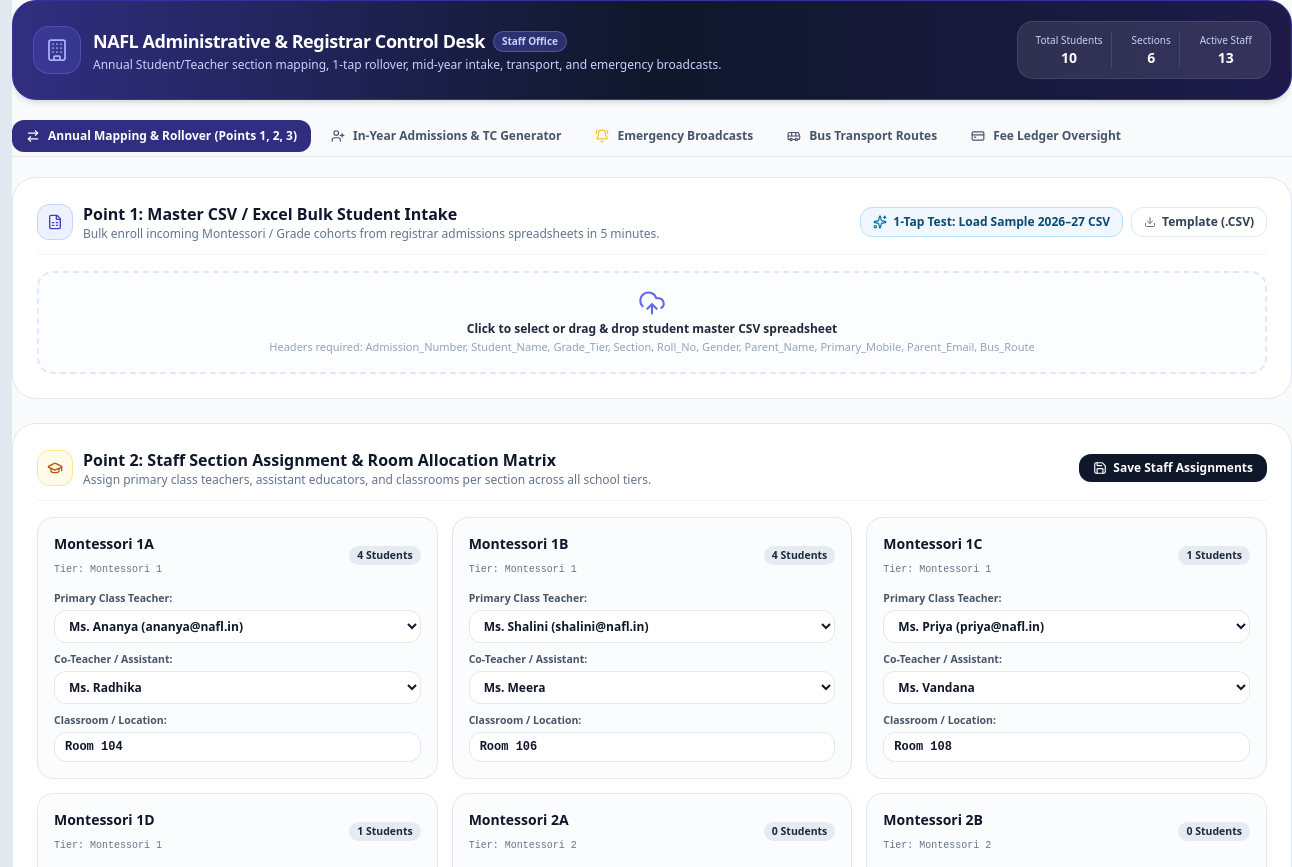
Test case: Suite L: Admin Assistant & Registrar Operations (Annual Mapping & In-Year Admin) › Point 2: modifies staff section assignment matrix and room allocations
expect the text "Montessori 1A" is shown: met, box [54, 534, 162, 554]
Replace the text in the 1st field showing "Room 104" with "Room 104-East" at {"x": 237, "y": 746}, box [54, 732, 421, 762]
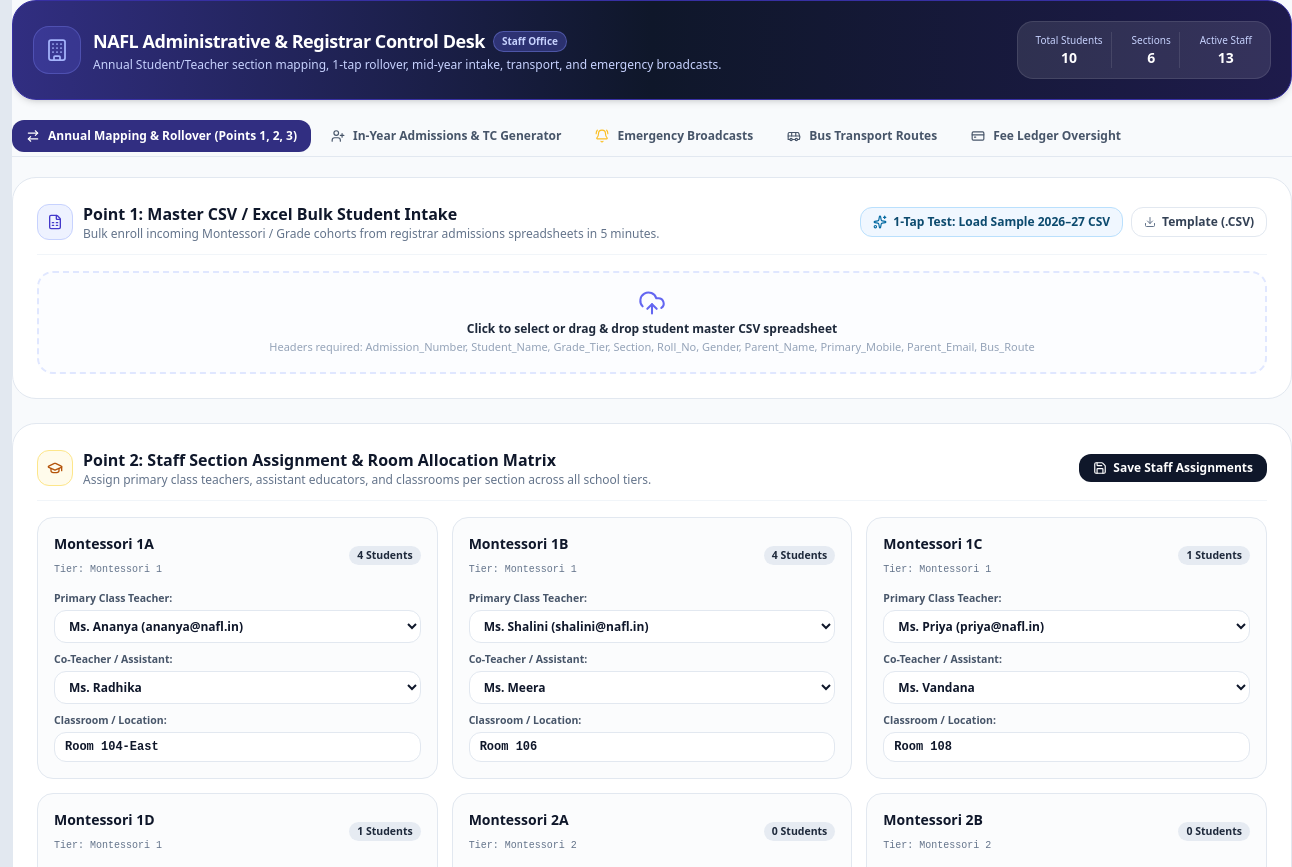
Save staff matrix
Click the button "Save Staff Assignments" at {"x": 1173, "y": 468}, box [1079, 454, 1267, 482]
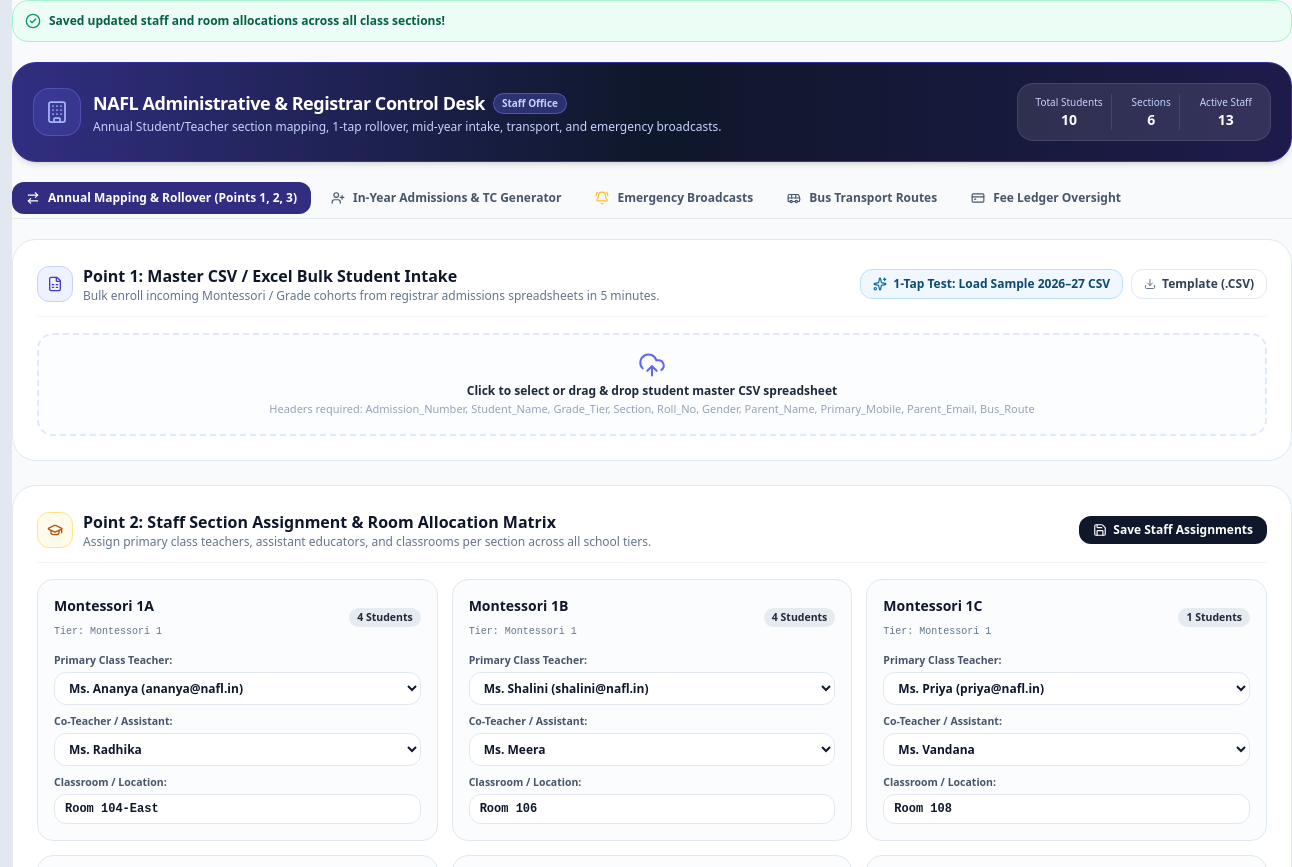
expect the text "Saved updated staff and room allocations across all class sections!" is shown: met, box [49, 13, 445, 29]
